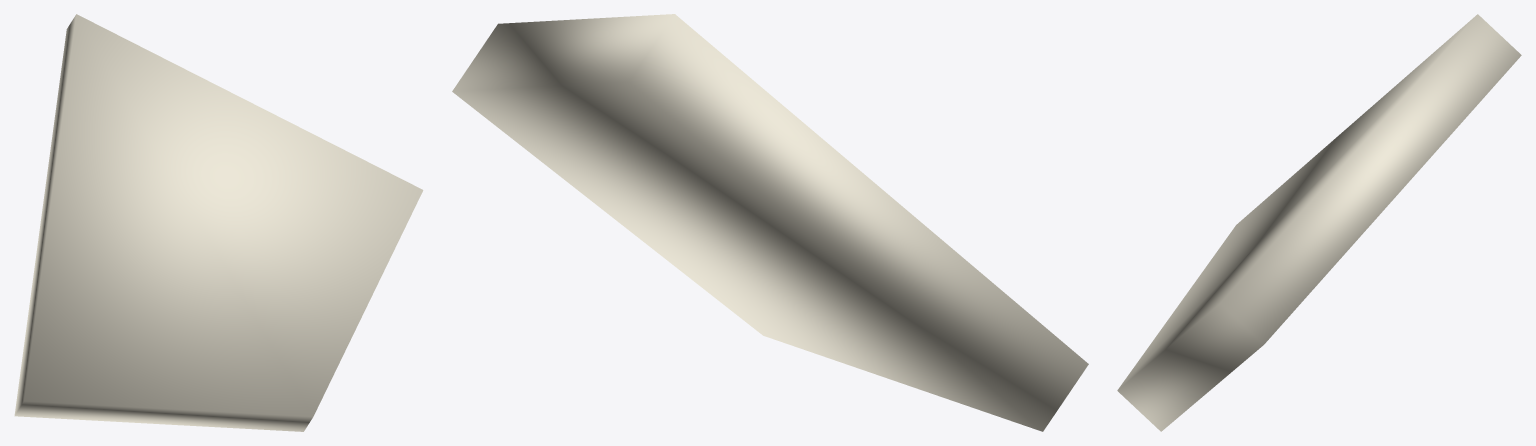
The picture shows the model from 3 angles, left to right: view 1: azimuth 30°, elevation 25°; view 2: azimuth 150°, elevation 25°; view 3: azimuth 270°, elevation 25°; orthographic projection. The views are drawn at different scales.
Parts seen in each view (by area): view 1: ZA_a614e46121be45ac; view 2: ZA_a614e46121be45ac; view 3: ZA_a614e46121be45ac.
Part boxes in pixels (bbox=[...]): ZA_a614e46121be45ac: bbox=[14, 14, 423, 431]; ZA_a614e46121be45ac: bbox=[452, 14, 1088, 431]; ZA_a614e46121be45ac: bbox=[1117, 14, 1521, 431].
Size of the model in its own units: 0.00426 by 0.00339 by 0.00334.
